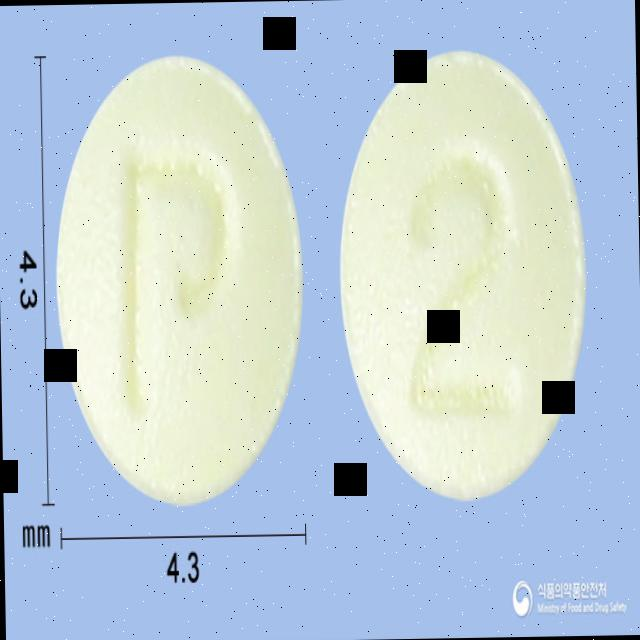Azabio - 25mg: (49, 48, 312, 514)
